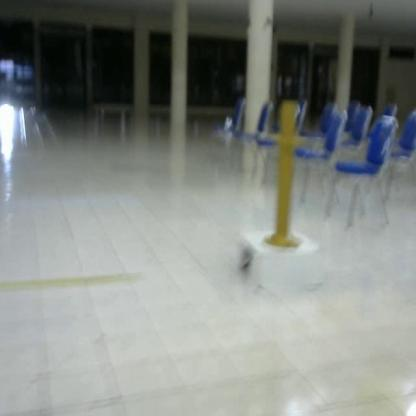pole: (264, 100, 311, 254)
